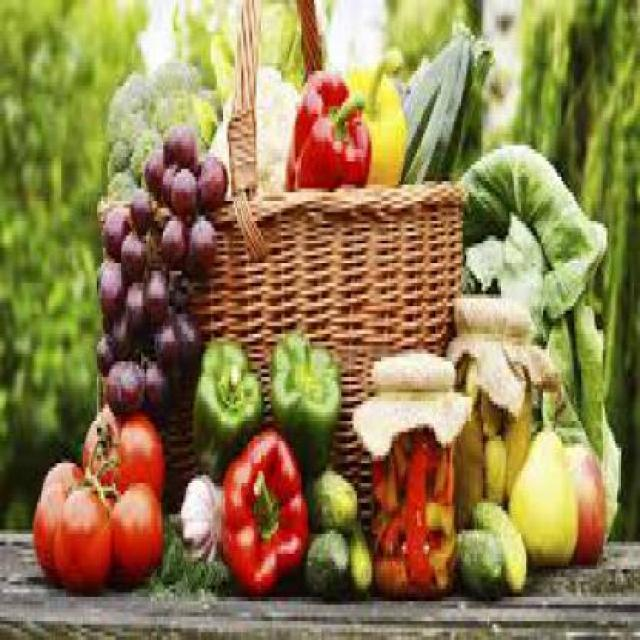BIODEGRADABLE: (456, 137, 607, 314), (538, 290, 617, 550), (103, 55, 222, 193), (217, 420, 308, 585), (402, 16, 492, 173), (205, 59, 302, 192), (206, 0, 325, 106), (282, 67, 370, 188), (268, 322, 339, 468), (506, 420, 576, 562), (191, 330, 260, 472), (79, 400, 161, 498), (351, 43, 406, 185), (52, 478, 110, 590), (31, 452, 80, 578), (562, 432, 608, 562), (107, 478, 161, 582), (471, 495, 526, 593), (159, 515, 223, 593), (173, 467, 221, 570), (402, 432, 432, 580), (303, 463, 357, 534), (456, 525, 506, 601), (299, 522, 347, 589), (455, 412, 479, 518), (103, 350, 143, 412), (148, 302, 180, 366), (191, 153, 227, 209), (347, 525, 371, 601), (95, 256, 124, 318), (481, 428, 504, 506), (142, 349, 167, 420), (183, 211, 214, 267), (349, 529, 374, 597), (122, 275, 146, 342), (161, 118, 196, 160), (115, 228, 146, 275), (156, 212, 184, 263), (174, 306, 198, 365), (128, 180, 155, 232), (506, 416, 525, 487), (169, 165, 197, 212), (423, 494, 452, 538), (101, 204, 128, 251), (376, 550, 409, 588), (144, 263, 165, 319), (92, 330, 120, 368), (378, 506, 400, 554), (430, 534, 452, 581), (159, 157, 178, 205), (374, 472, 398, 510), (103, 310, 128, 345), (145, 148, 163, 188), (434, 439, 446, 495), (390, 436, 405, 479)
GLASS: (367, 416, 456, 593)
